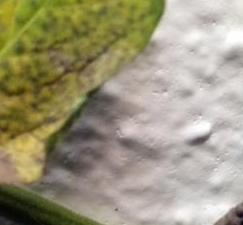Tomato leaf bacterial spot: (0, 0, 176, 174)
